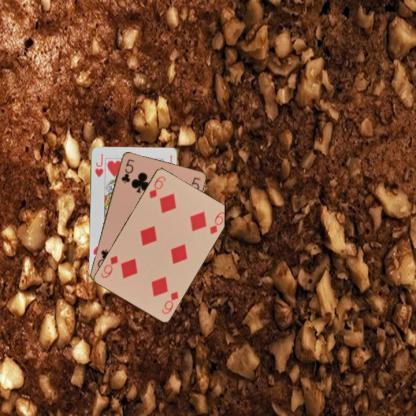5c: (118, 156, 136, 184)
6d: (159, 288, 180, 315), (146, 174, 167, 200)
Jh: (92, 151, 104, 178)
